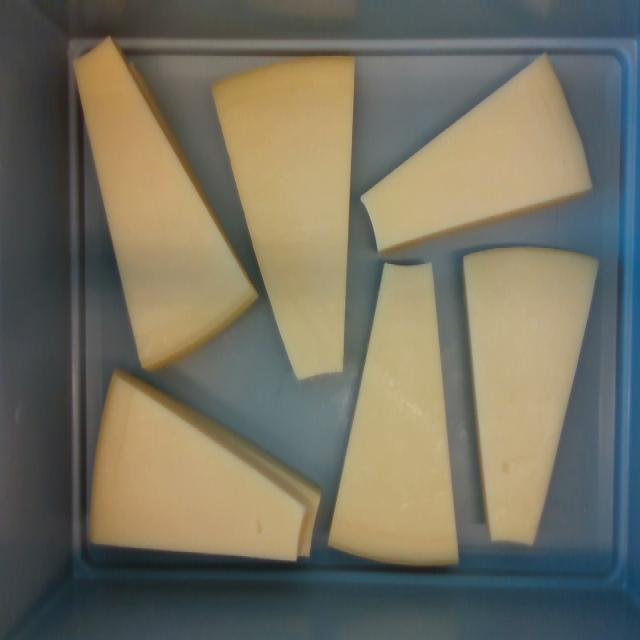cheese: (75, 37, 254, 368), (213, 59, 353, 379), (362, 56, 591, 251), (91, 373, 310, 560), (465, 248, 596, 544), (328, 263, 456, 561)
